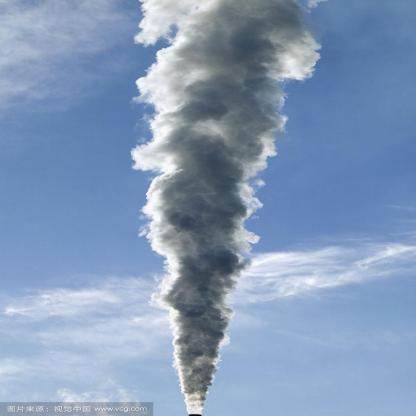smoke: (147, 82, 286, 146), (152, 33, 318, 81), (146, 148, 260, 214), (155, 213, 252, 282), (152, 3, 290, 32), (173, 331, 221, 403), (166, 282, 232, 331)
